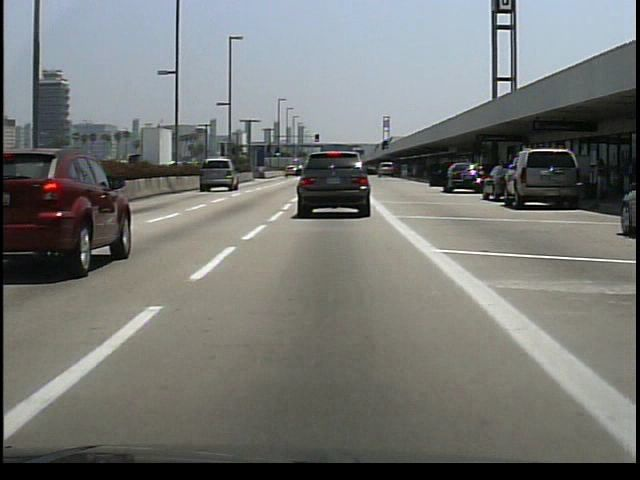person: (591, 154, 609, 204)
